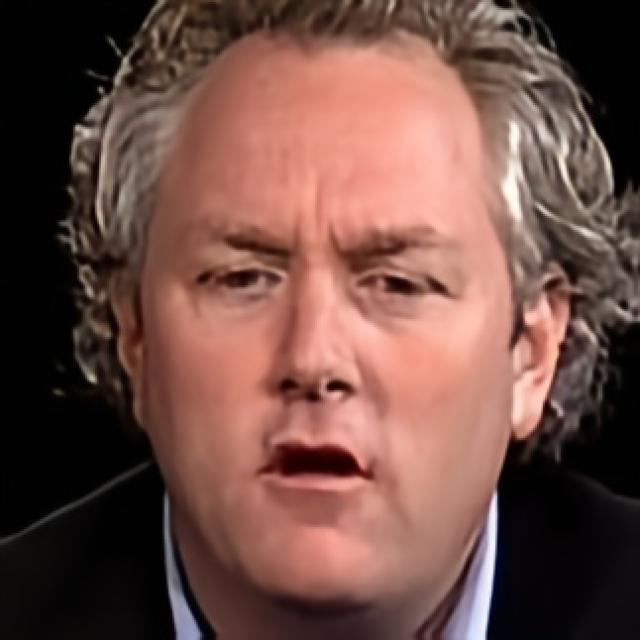disgust: (141, 22, 512, 622)
